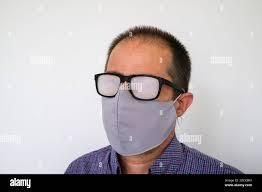mask: (97, 85, 184, 156)
sunglasses: (91, 67, 169, 104)
